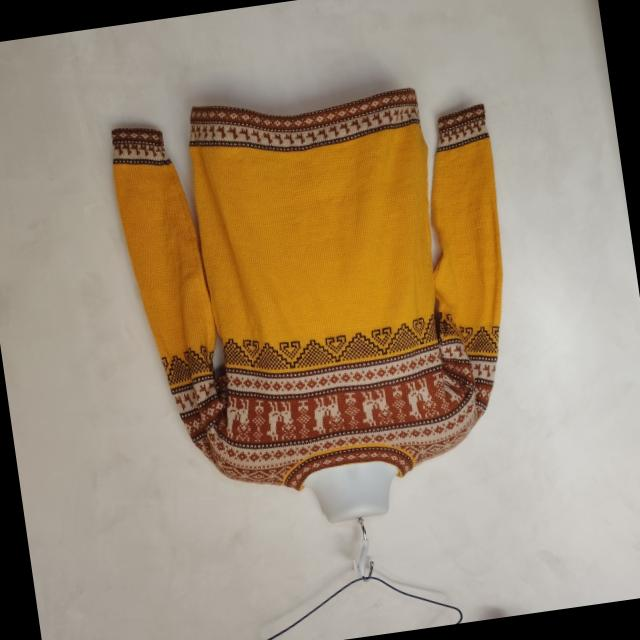Chompa: (103, 66, 540, 532)
